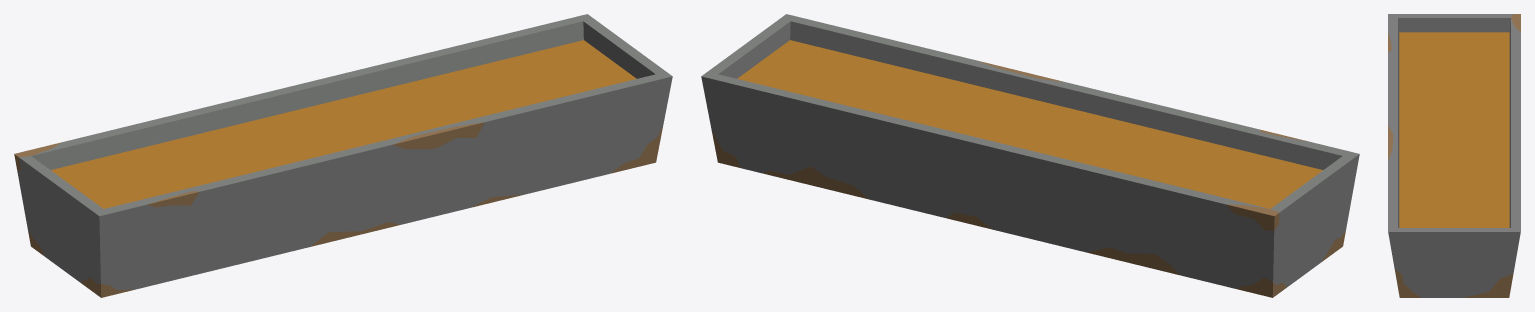
Rendered from SM_Prop_HayTrough_01.obj.
3 views of the same model, side by side, from view 1: azimuth 30°, elevation 25°; view 2: azimuth 150°, elevation 25°; view 3: azimuth 270°, elevation 25° (orthographic). The views are drawn at different scales.
Visible parts, largest first — view 1: SM_Prop_HayTrough_01_Mat_SwatchOverlay_Farm_01_Inst; view 2: SM_Prop_HayTrough_01_Mat_SwatchOverlay_Farm_01_Inst; view 3: SM_Prop_HayTrough_01_Mat_SwatchOverlay_Farm_01_Inst.
Boxes of the visible parts, x1,y1,x2,y2 form: SM_Prop_HayTrough_01_Mat_SwatchOverlay_Farm_01_Inst: (14,14,672,297); SM_Prop_HayTrough_01_Mat_SwatchOverlay_Farm_01_Inst: (701,14,1359,297); SM_Prop_HayTrough_01_Mat_SwatchOverlay_Farm_01_Inst: (1388,14,1520,297).
Bounding box in the file's own units: 1.76 × 0.2623 × 0.4531.
Materials: 1 (1 with a texture image).
